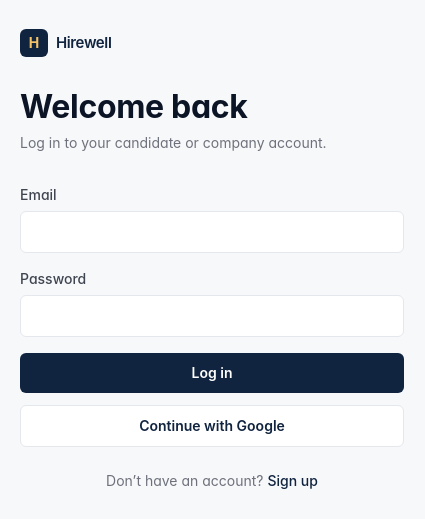
LoginPage › shows a validation error for a malformed email
Type "not-an-email" into the field labelled "Email" at (212, 232), box [20, 211, 404, 253]
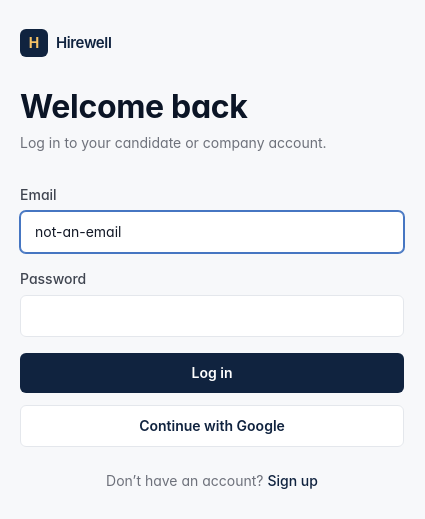
Type "somepassword" into the password field labelled "Password" at (212, 316), box [20, 295, 404, 337]
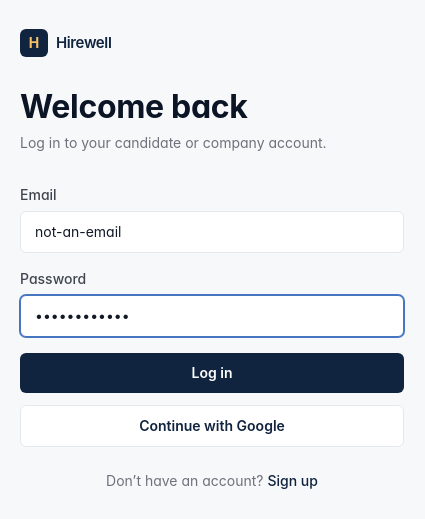
Click the button "Log in" at (212, 373), box [20, 353, 404, 393]
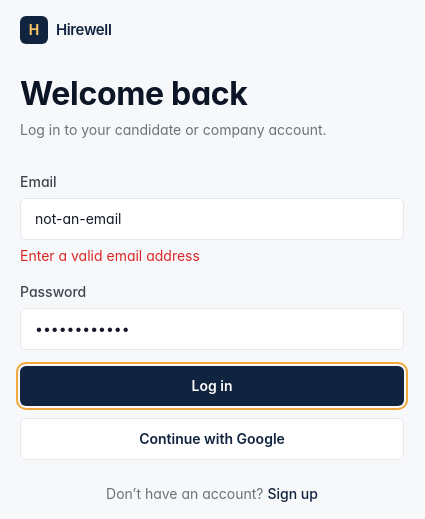
Expected: the text "Enter a valid email address" is shown, [20, 247, 200, 264]
